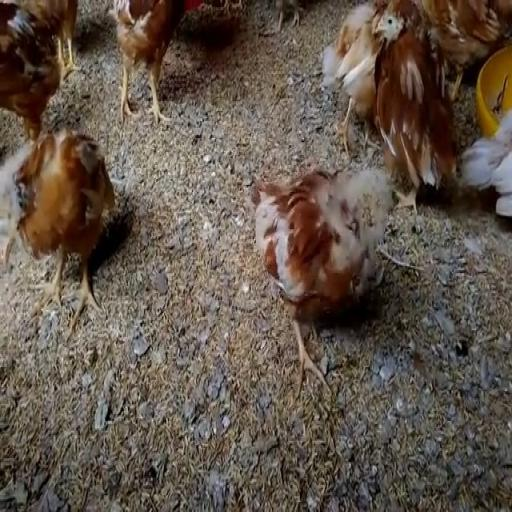disease: (340, 179, 390, 261)
